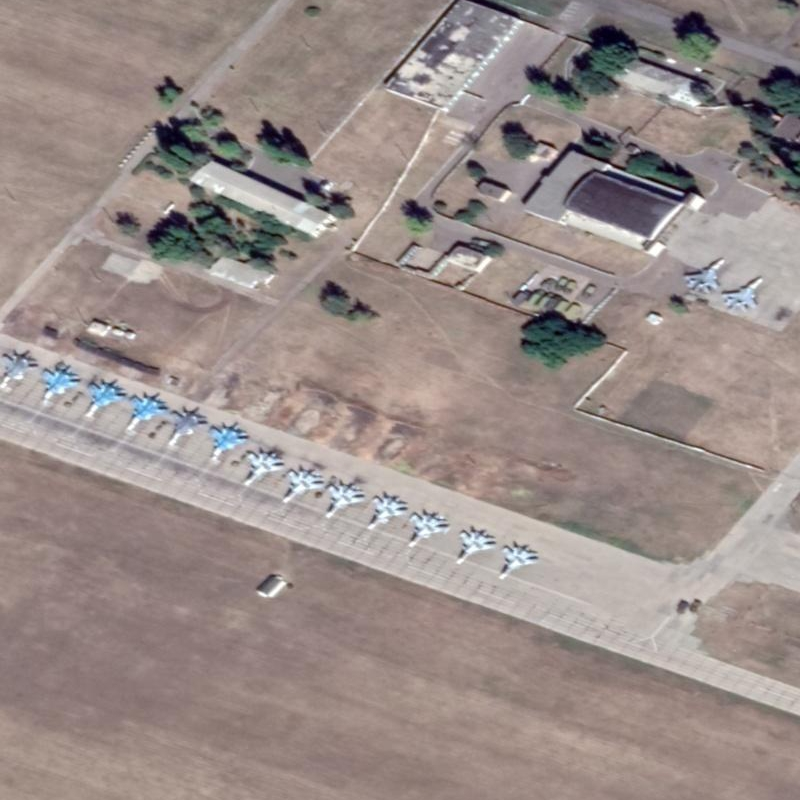A19: (681, 255, 727, 297), (720, 274, 765, 314), (281, 467, 327, 505), (40, 367, 83, 407), (407, 511, 452, 549), (82, 381, 126, 419), (241, 450, 285, 487), (365, 495, 409, 532), (454, 529, 498, 566), (497, 544, 540, 581), (207, 425, 250, 462), (125, 395, 168, 432), (323, 483, 366, 519), (1, 353, 40, 392), (167, 411, 206, 448)
